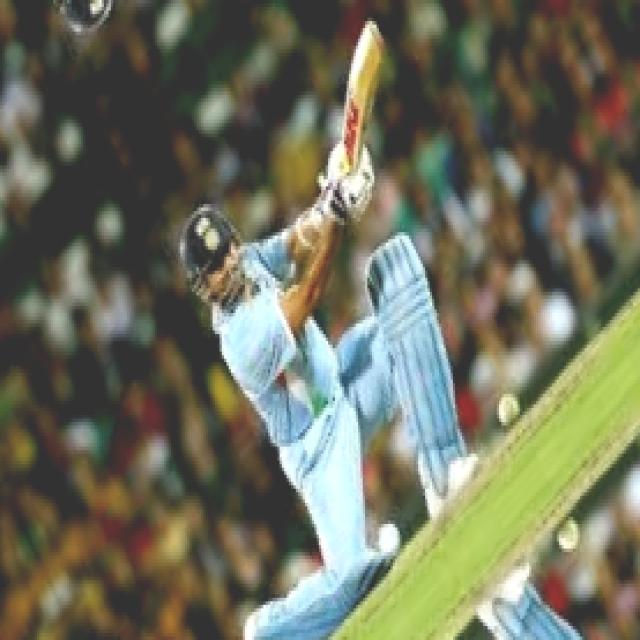toe: (352, 21, 390, 70)
